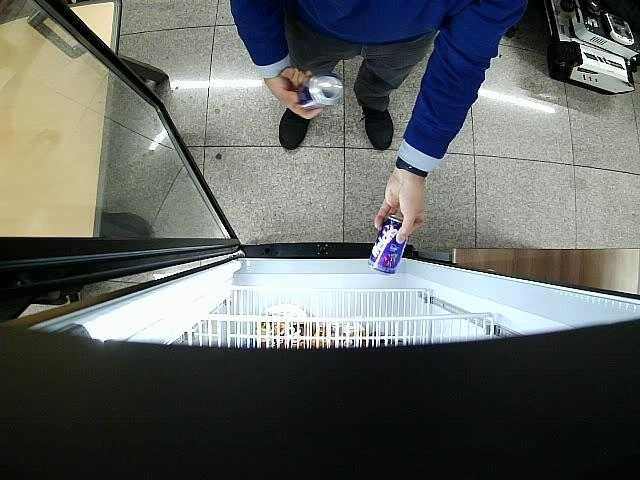14_welchsGrape: (368, 214, 408, 275), (290, 70, 344, 113)
